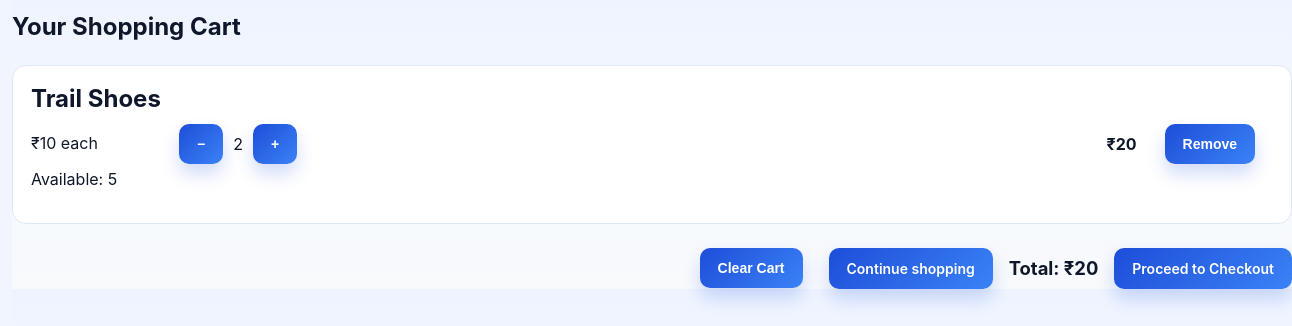
Test: cart › removes a cart item
This screenshot has width=1292, height=326.
Click the button "Remove".
click(1210, 144)  # box [1164,124,1255,164]
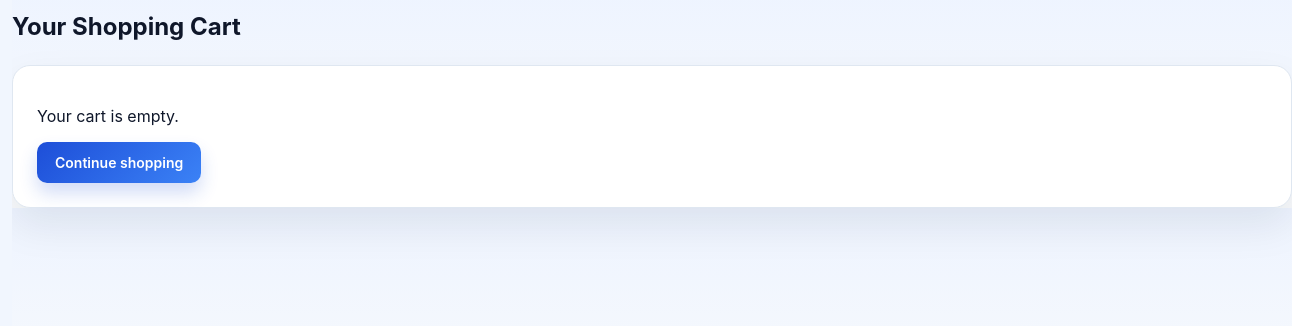
Expected: the text "Your cart is empty." is shown, [37,106,179,126]
